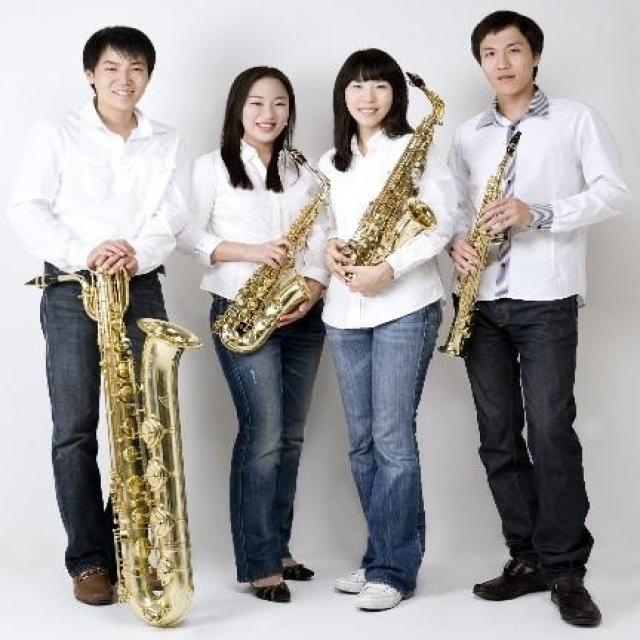saxophone: (25, 262, 205, 630), (213, 146, 336, 358), (336, 67, 448, 280)
